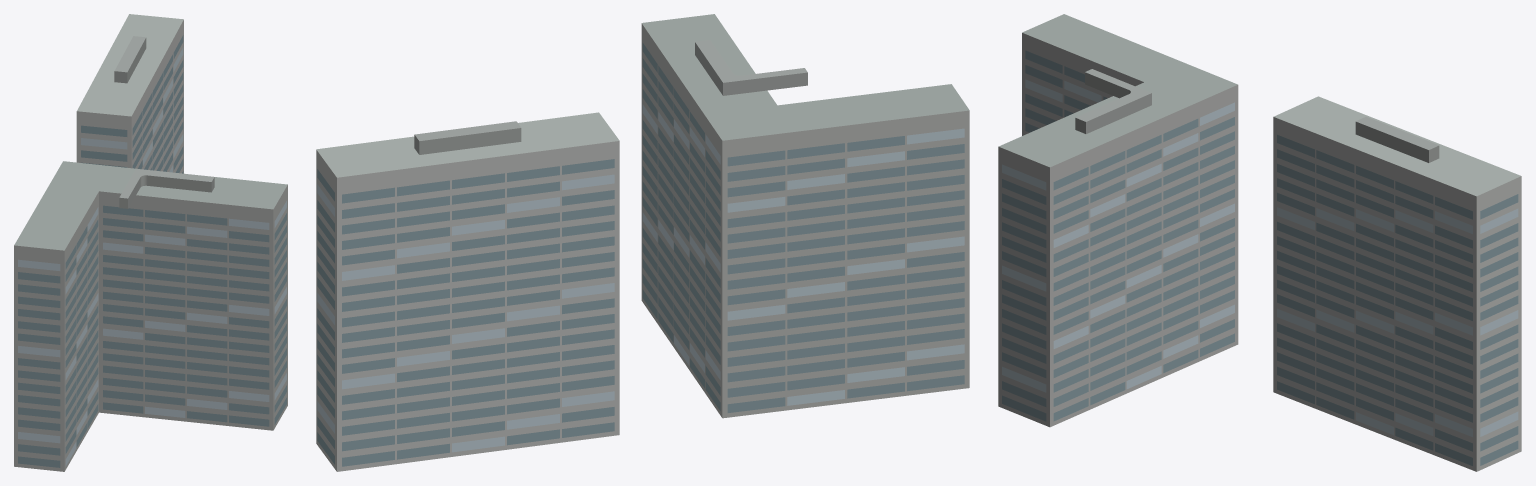
File: apt-a13887301.glb
3 views of the same model, side by side, from view 1: azimuth 30°, elevation 25°; view 2: azimuth 150°, elevation 25°; view 3: azimuth 270°, elevation 25° (orthographic). The views are drawn at different scales.
Visible parts, largest first — view 1: apt-a13887301; view 2: apt-a13887301; view 3: apt-a13887301.
Boxes of the visible parts, bbox=[...] form: apt-a13887301: bbox=[14, 14, 287, 471]; apt-a13887301: bbox=[316, 14, 969, 471]; apt-a13887301: bbox=[998, 14, 1521, 471].
Bounding box in the file's own units: 78.02 × 53 × 87.1.
